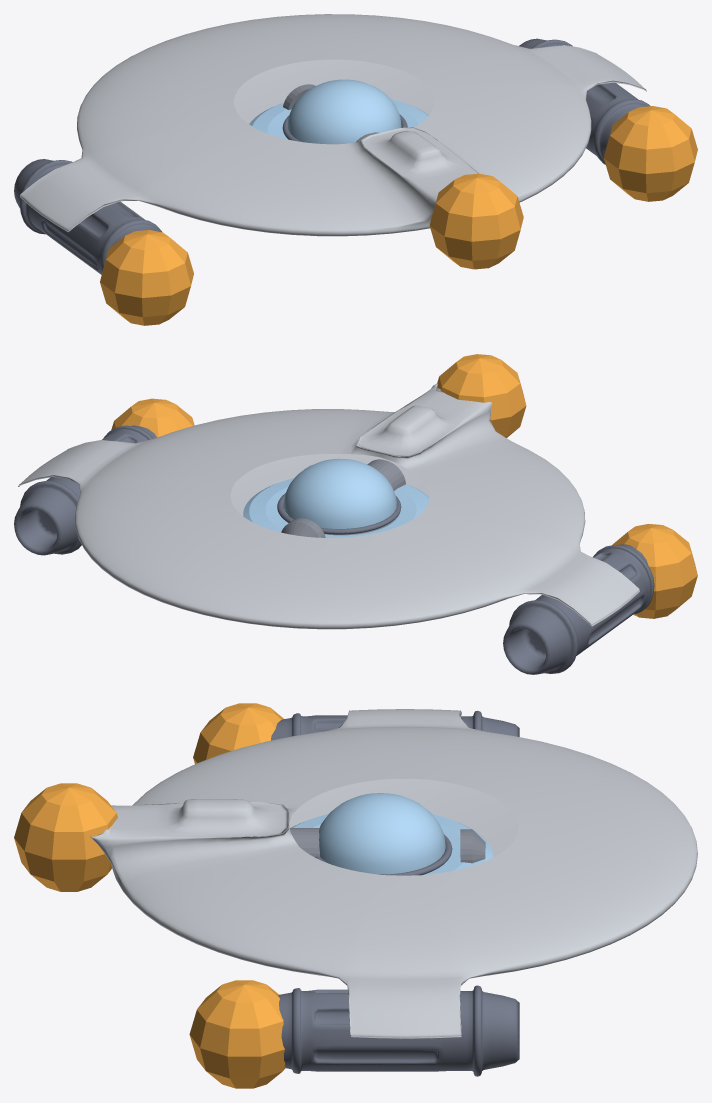
Rendered from jetpack.glb.
3 views of the same model, one above another, from view 1: azimuth 30°, elevation 25°; view 2: azimuth 150°, elevation 25°; view 3: azimuth 270°, elevation 25° (orthographic). The views are drawn at different scales.
Visible parts, largest first — view 1: ship; view 2: ship; view 3: ship.
Part boxes in pixels (x1,y1,x2,y2): ship: (14, 14, 697, 325); ship: (14, 354, 697, 674); ship: (14, 703, 697, 1088).
Size of the model in its own units: 0.7 by 0.1592 by 0.6183.
